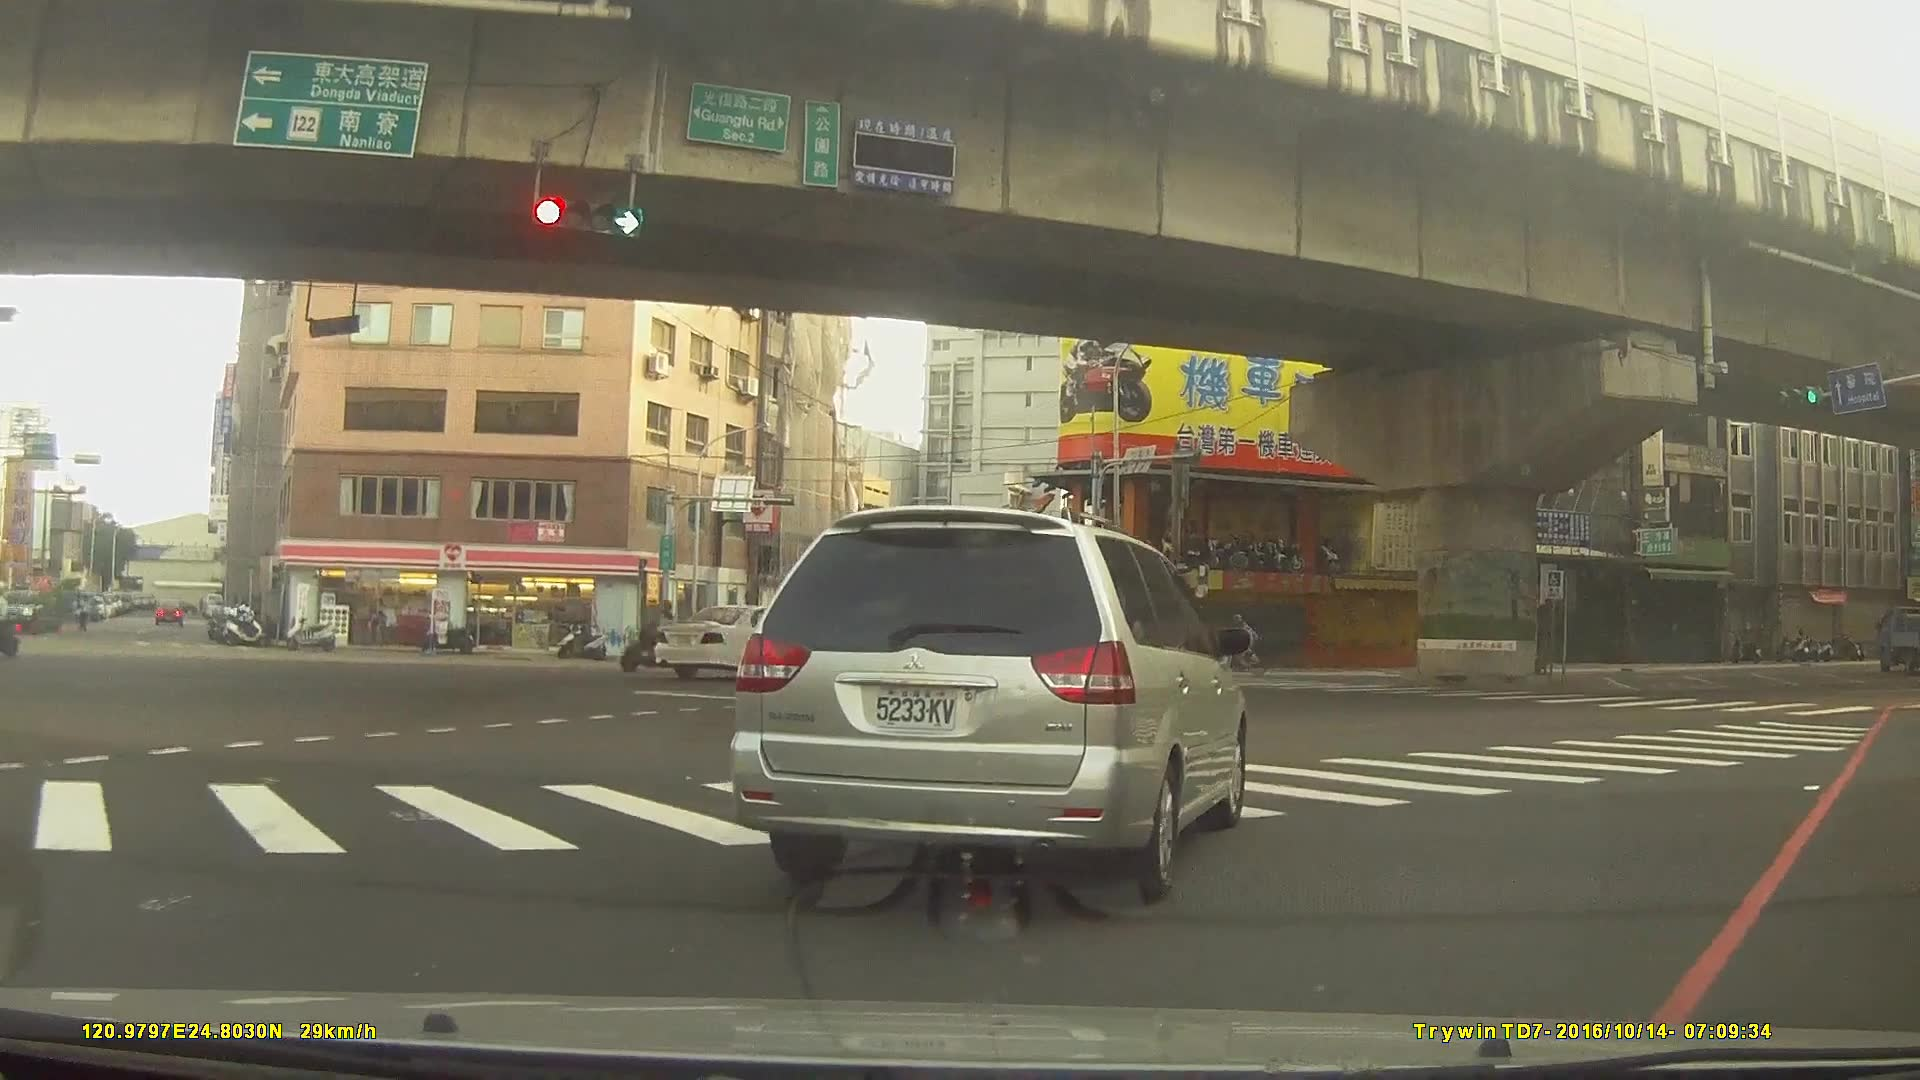rider: (618, 597, 687, 671), (1214, 615, 1271, 679), (1, 585, 23, 665)
vehicle: (729, 503, 1245, 908), (655, 601, 827, 677), (1871, 607, 1920, 671), (829, 633, 901, 674), (151, 596, 181, 624)
